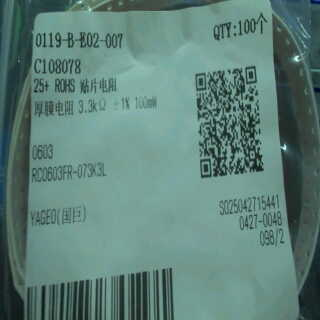3.3kO: (75, 95, 108, 119)
